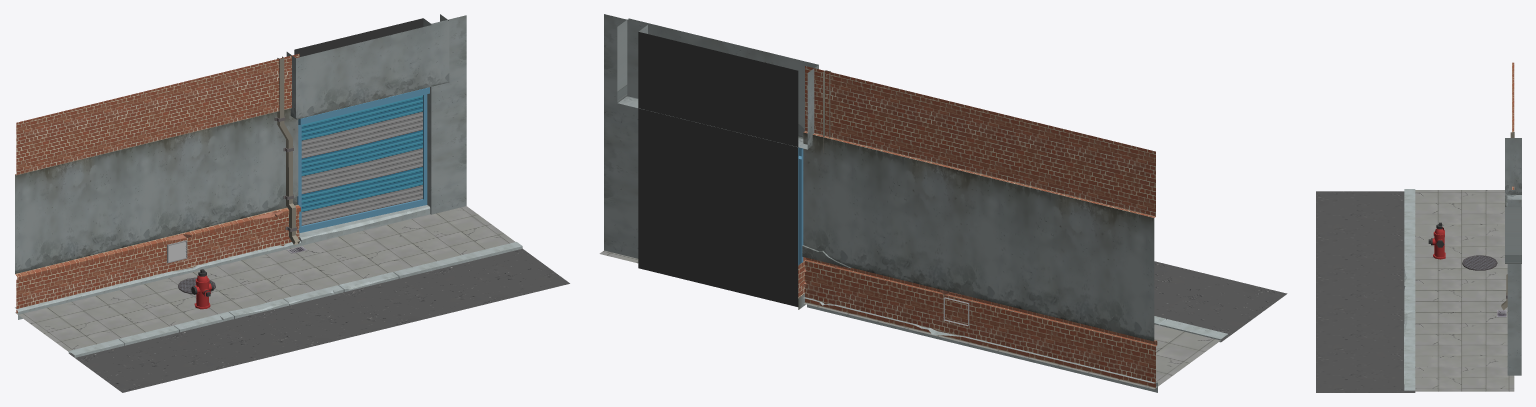
File: interior_H_001.fbx
3 views of the same model, side by side, from view 1: azimuth 30°, elevation 25°; view 2: azimuth 150°, elevation 25°; view 3: azimuth 270°, elevation 25° (orthographic). The views are drawn at different scales.
Visible parts, largest first — view 1: interior_H_001; view 2: interior_H_001; view 3: interior_H_001.
Boxes of the visible parts, x1,y1,x2,y2 form: interior_H_001: (15, 14, 569, 392); interior_H_001: (599, 14, 1287, 392); interior_H_001: (1316, 62, 1521, 392).
Bounding box in the file's own units: 855 × 357 × 369.
Materials: 15 (8 with a texture image).
